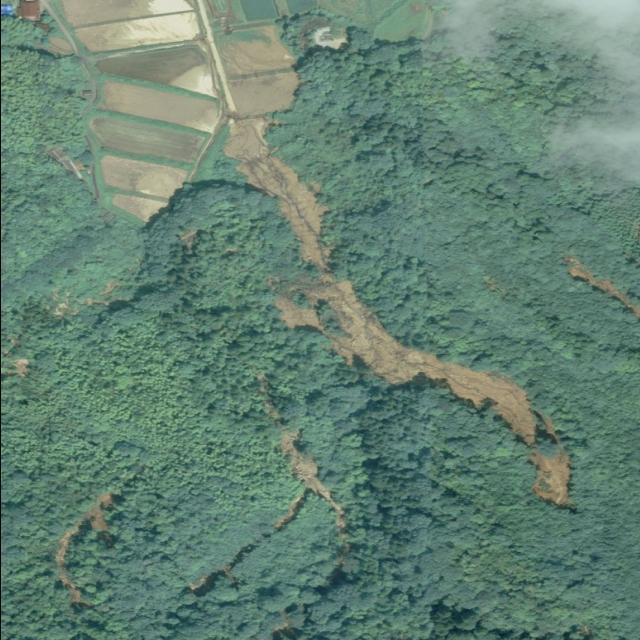landslide: (224, 117, 570, 507)
